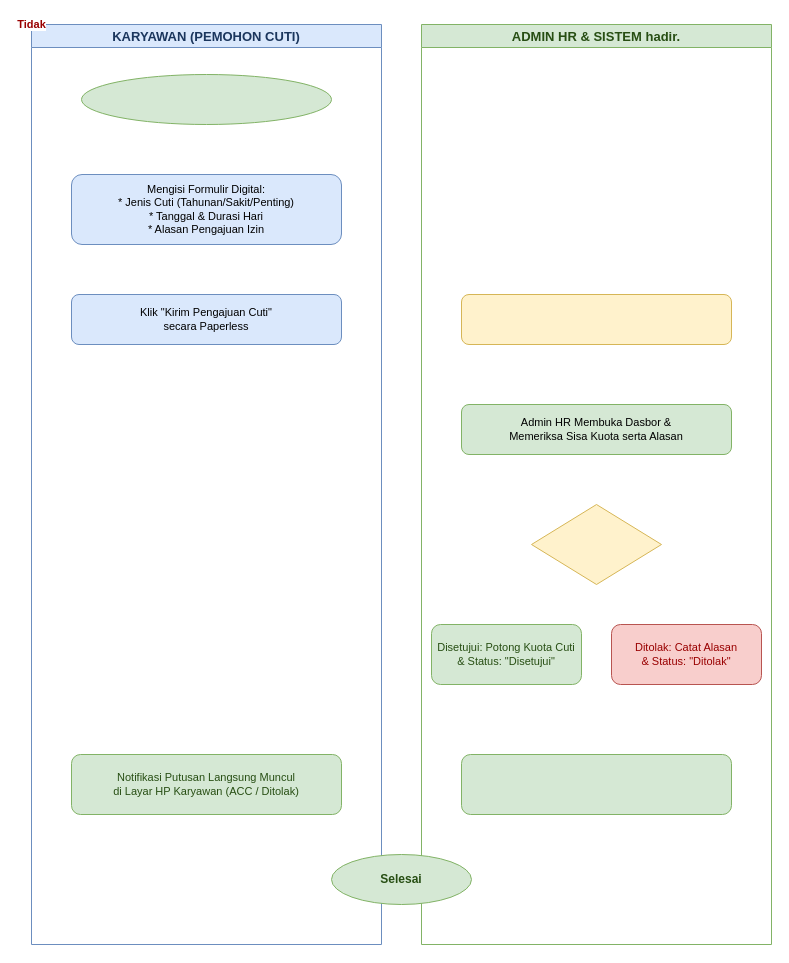
Some shapes in this 789 by 963 pixel diagram are drawn without their labels. The shapes that lost their labels are listed below. From the top down, each one's centre as x and y in pixels, then its label:
the point at 206,99: Mulai: Pilih Menu Pengajuan Cuti
the point at 596,319: Sistem Menyimpan Pengajuan dengan Status: "Menunggu"
the point at 596,544: Pengajuan Disetujui?
the point at 596,784: Rekap Data Cuti Otomatis Tersimpan di Laporan Bulanan HR
